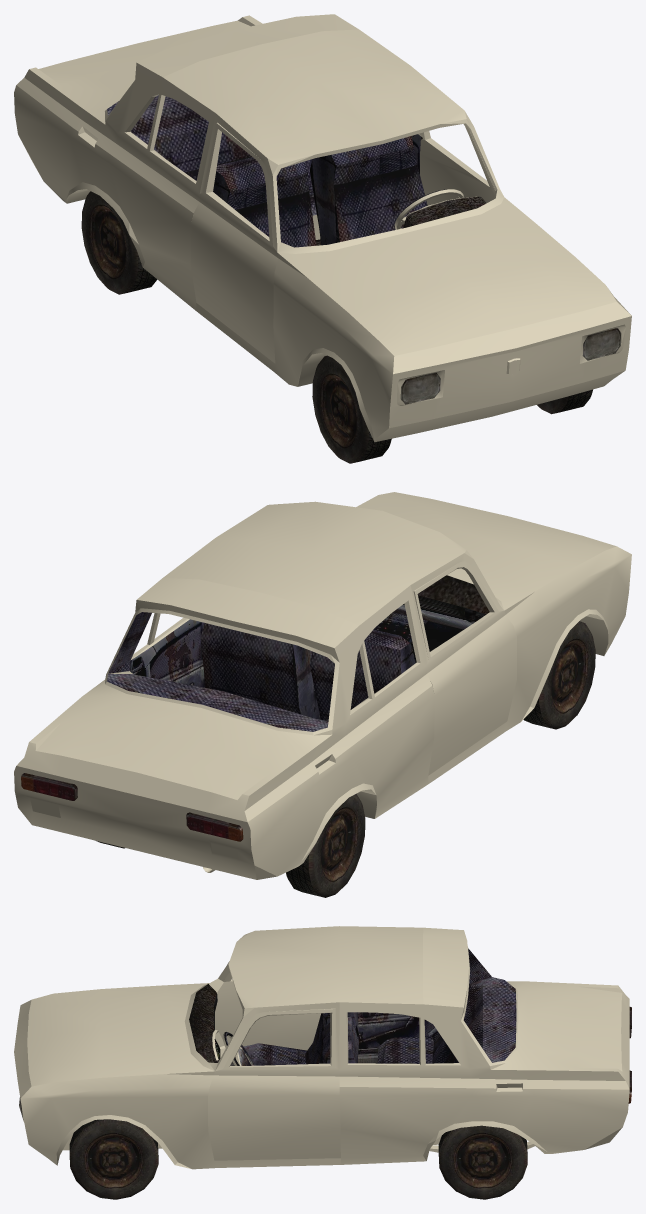
The model's file is carro-sutain.glb.
3 views of the same model, one above another, from view 1: azimuth 30°, elevation 25°; view 2: azimuth 150°, elevation 25°; view 3: azimuth 270°, elevation 25° (orthographic). The views are drawn at different scales.
Parts seen in each view (by area): view 1: body, wheel_FR, wheel_RR, wheel_FL; view 2: body, wheel_RR, wheel_FR; view 3: body, wheel_FL, wheel_RL.
Part boxes in pixels (x1,y1,x2,y2): body: (14, 14, 631, 442); wheel_FR: (312, 355, 391, 463); wheel_RR: (81, 191, 157, 294); wheel_FL: (537, 389, 592, 414); body: (14, 492, 631, 879); wheel_RR: (286, 794, 365, 897); wheel_FR: (523, 621, 595, 729); body: (14, 926, 631, 1169); wheel_FL: (69, 1119, 158, 1199); wheel_RL: (438, 1125, 527, 1199).
Size of the model in its own units: 1.69 by 1.61 by 4.52.
2 materials, 1 textured.
